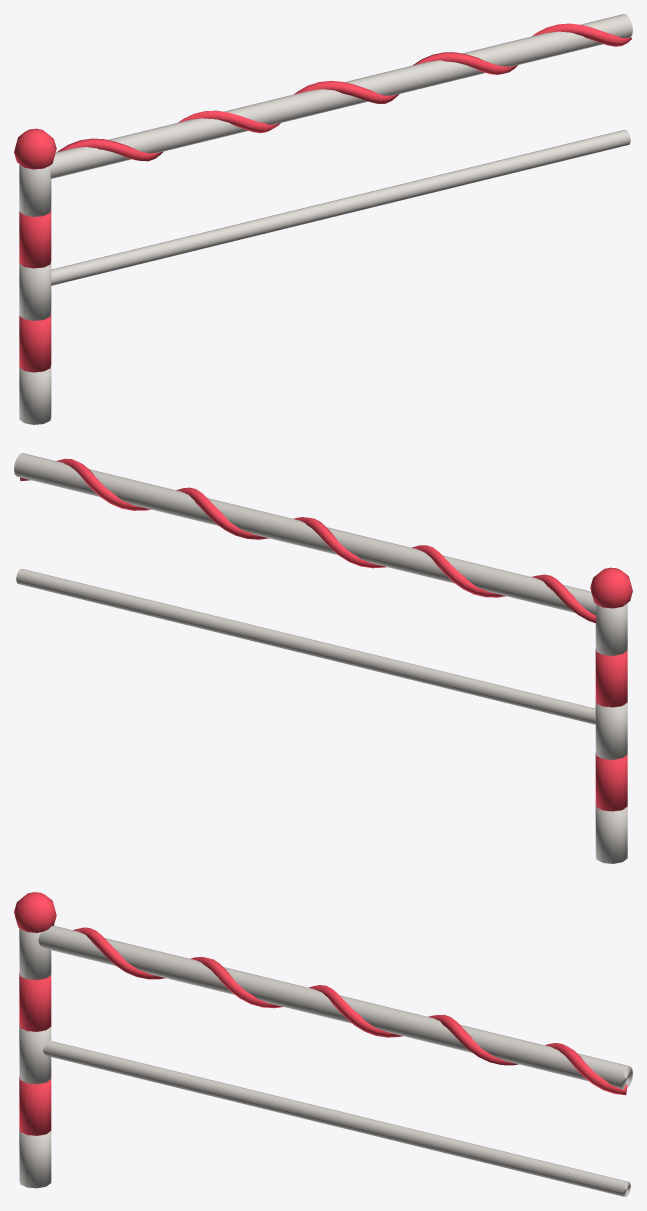
The model's file is candy_rail.glb.
3 renders of one model, top to bottom at view 1: azimuth 30°, elevation 25°; view 2: azimuth 150°, elevation 25°; view 3: azimuth 330°, elevation 25°, orthographic.
Parts seen in each view (by area): view 1: Rail; view 2: Rail; view 3: Rail.
Boxes of the visible parts, x1=… form: Rail: x1=14, y1=14, x2=632, y2=424; Rail: x1=14, y1=453, x2=632, y2=863; Rail: x1=14, y1=892, x2=632, y2=1196.
Bounding box in the file's own units: 2.59 × 1.16 × 0.16.
